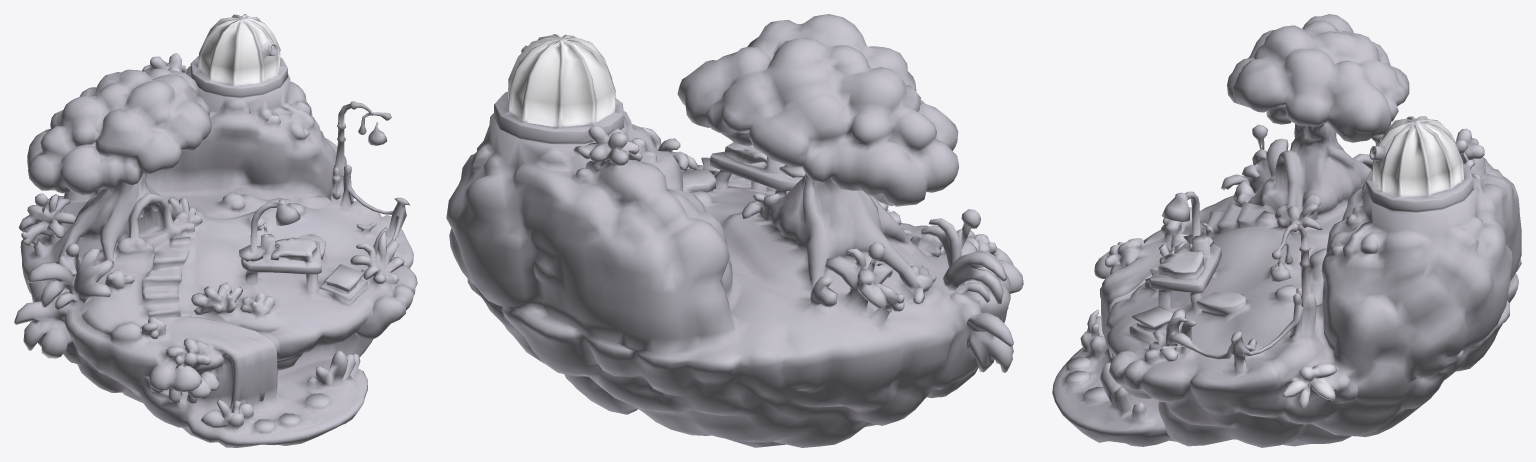
The model's file is 同頻星球.glb.
3 views of the same model, side by side, from view 1: azimuth 30°, elevation 25°; view 2: azimuth 150°, elevation 25°; view 3: azimuth 270°, elevation 25° (orthographic). The views are drawn at different scales.
Parts seen in each view (by area): view 1: tripo_node_ffad84e5-9eee-4295-ae5a-bcc83d8fb8ce; view 2: tripo_node_ffad84e5-9eee-4295-ae5a-bcc83d8fb8ce; view 3: tripo_node_ffad84e5-9eee-4295-ae5a-bcc83d8fb8ce.
Part boxes in pixels (x1,y1,x2,y2): tripo_node_ffad84e5-9eee-4295-ae5a-bcc83d8fb8ce: [14, 14, 417, 447]; tripo_node_ffad84e5-9eee-4295-ae5a-bcc83d8fb8ce: [446, 14, 1023, 447]; tripo_node_ffad84e5-9eee-4295-ae5a-bcc83d8fb8ce: [1052, 14, 1521, 447].
Size of the model in its own units: 0.9792 by 0.7761 by 0.9217.
Materials: 1 (1 with a texture image).
